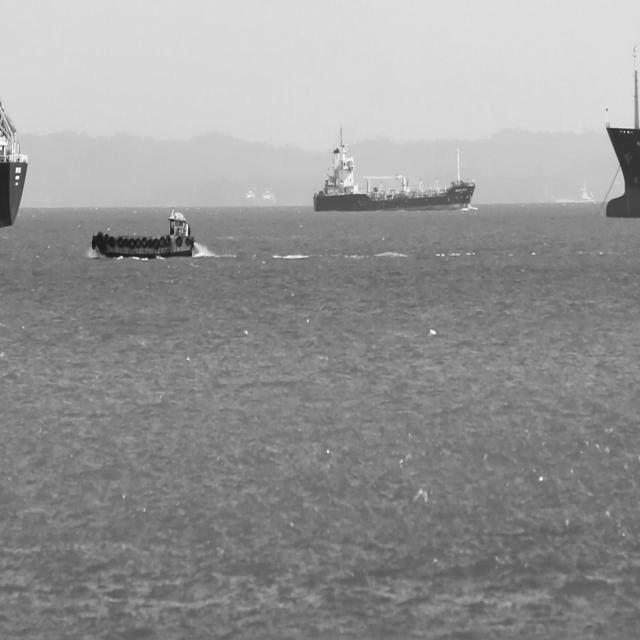ship: (312, 122, 475, 214), (607, 44, 640, 218), (90, 210, 197, 260), (0, 94, 31, 227)
